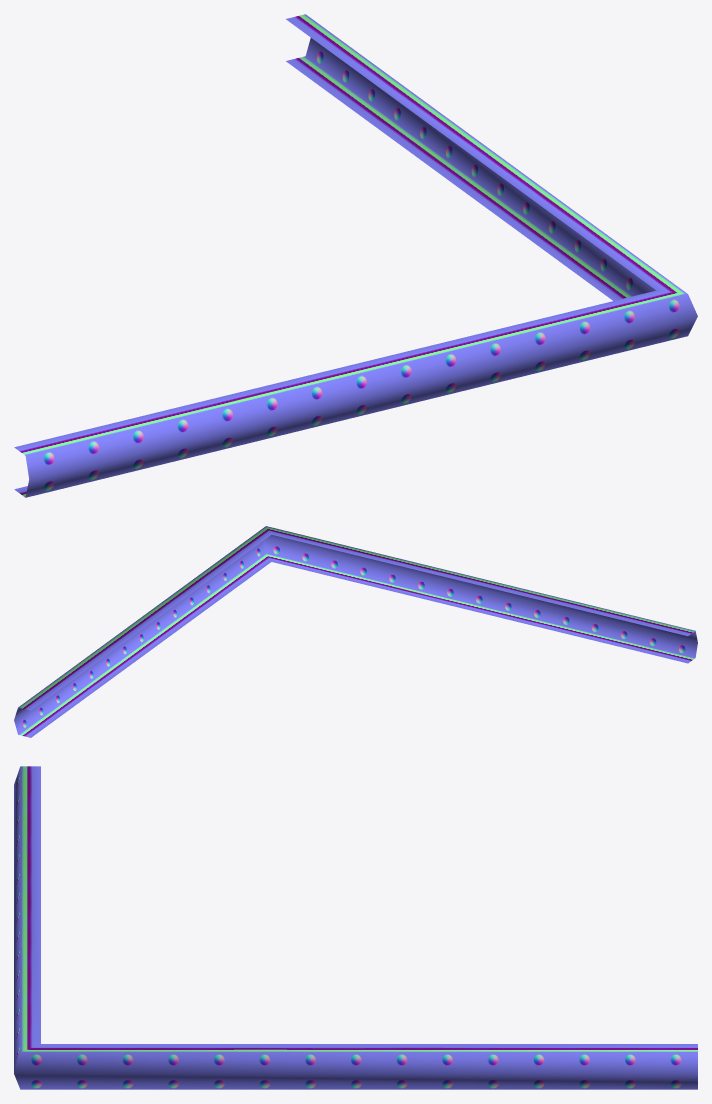
The model's file is sm_wall_roof_edge_outer_corner_02.fbx.
3 views of the same model, one above another, from view 1: azimuth 30°, elevation 25°; view 2: azimuth 150°, elevation 25°; view 3: azimuth 270°, elevation 25° (orthographic). The views are drawn at different scales.
Visible parts, largest first — view 1: sm_wall_roof_edge_outer_corner_02; view 2: sm_wall_roof_edge_outer_corner_02; view 3: sm_wall_roof_edge_outer_corner_02.
Boxes of the visible parts, box(x1,y1,x2,y2) form: sm_wall_roof_edge_outer_corner_02: box(14, 14, 697, 497); sm_wall_roof_edge_outer_corner_02: box(14, 526, 697, 737); sm_wall_roof_edge_outer_corner_02: box(14, 766, 697, 1089).
Bounding box in the file's own units: 416 × 25 × 416.
1 material, 1 textured.
